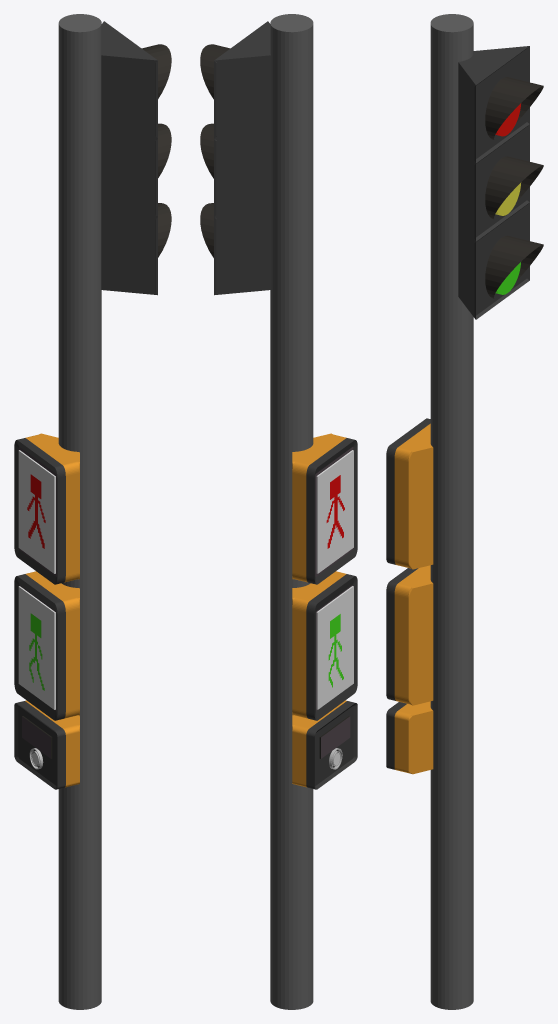
The model's file is Traffic_Light.glb.
3 views of the same model, side by side, from view 1: azimuth 30°, elevation 25°; view 2: azimuth 150°, elevation 25°; view 3: azimuth 330°, elevation 25° (orthographic).
Visible parts, largest first — view 1: 柱体, 立方体.003, 立方体.002, 立方体.001, 立方体.005, 立方体.006, 立方体, 立方体.004, 柱体.004, 柱体.005, 柱体.006; view 2: 柱体, 立方体.003, 立方体.002, 立方体.001, 立方体.006, 立方体.005, 立方体, 立方体.004, 柱体.004, 柱体.005, 柱体.006; view 3: 柱体, 立方体.003, 立方体.002, 立方体.001, 立方体, 柱体.006, 柱体.004, 柱体.005.
Part boxes in pixels (left/top/right/bottom): 柱体: left=58, top=14, right=101, bottom=1009; 立方体.003: left=101, top=21, right=157, bottom=295; 立方体.002: left=14, top=433, right=79, bottom=584; 立方体.001: left=14, top=571, right=79, bottom=720; 立方体.005: left=18, top=450, right=55, bottom=573; 立方体.006: left=18, top=586, right=55, bottom=709; 立方体: left=14, top=700, right=79, bottom=789; 立方体.004: left=22, top=716, right=52, bottom=758; 柱体.004: left=142, top=44, right=171, bottom=98; 柱体.005: left=158, top=123, right=171, bottom=177; 柱体.006: left=158, top=203, right=171, bottom=257; 柱体: left=270, top=14, right=313, bottom=1009; 立方体.003: left=214, top=21, right=270, bottom=295; 立方体.002: left=292, top=433, right=357, bottom=584; 立方体.001: left=292, top=571, right=357, bottom=720; 立方体.006: left=316, top=586, right=353, bottom=709; 立方体.005: left=316, top=450, right=353, bottom=573; 立方体: left=292, top=700, right=357, bottom=789; 立方体.004: left=319, top=716, right=350, bottom=758; 柱体.004: left=200, top=44, right=230, bottom=99; 柱体.005: left=200, top=123, right=213, bottom=178; 柱体.006: left=200, top=203, right=213, bottom=257; 柱体: left=430, top=14, right=473, bottom=1009; 立方体.003: left=458, top=46, right=529, bottom=319; 立方体.002: left=386, top=418, right=433, bottom=569; 立方体.001: left=386, top=565, right=433, bottom=705; 立方体: left=386, top=701, right=433, bottom=774; 柱体.006: left=485, top=235, right=543, bottom=298; 柱体.004: left=485, top=77, right=543, bottom=140; 柱体.005: left=485, top=156, right=543, bottom=219.
Size of the model in its own units: 1.41 by 10 by 1.
